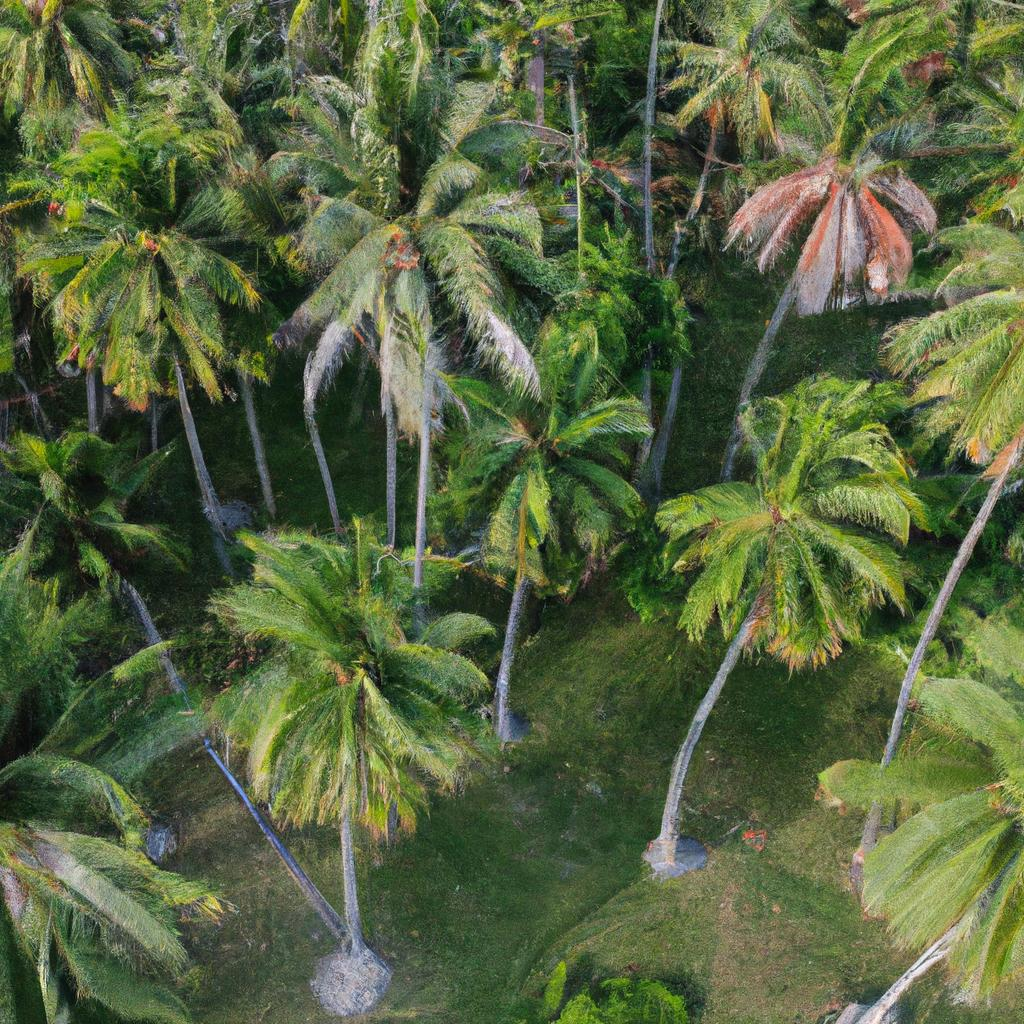coconut_tree: (198, 508, 520, 861), (636, 345, 951, 677), (261, 83, 541, 434), (12, 94, 289, 424), (425, 321, 678, 615), (717, 48, 947, 324)
